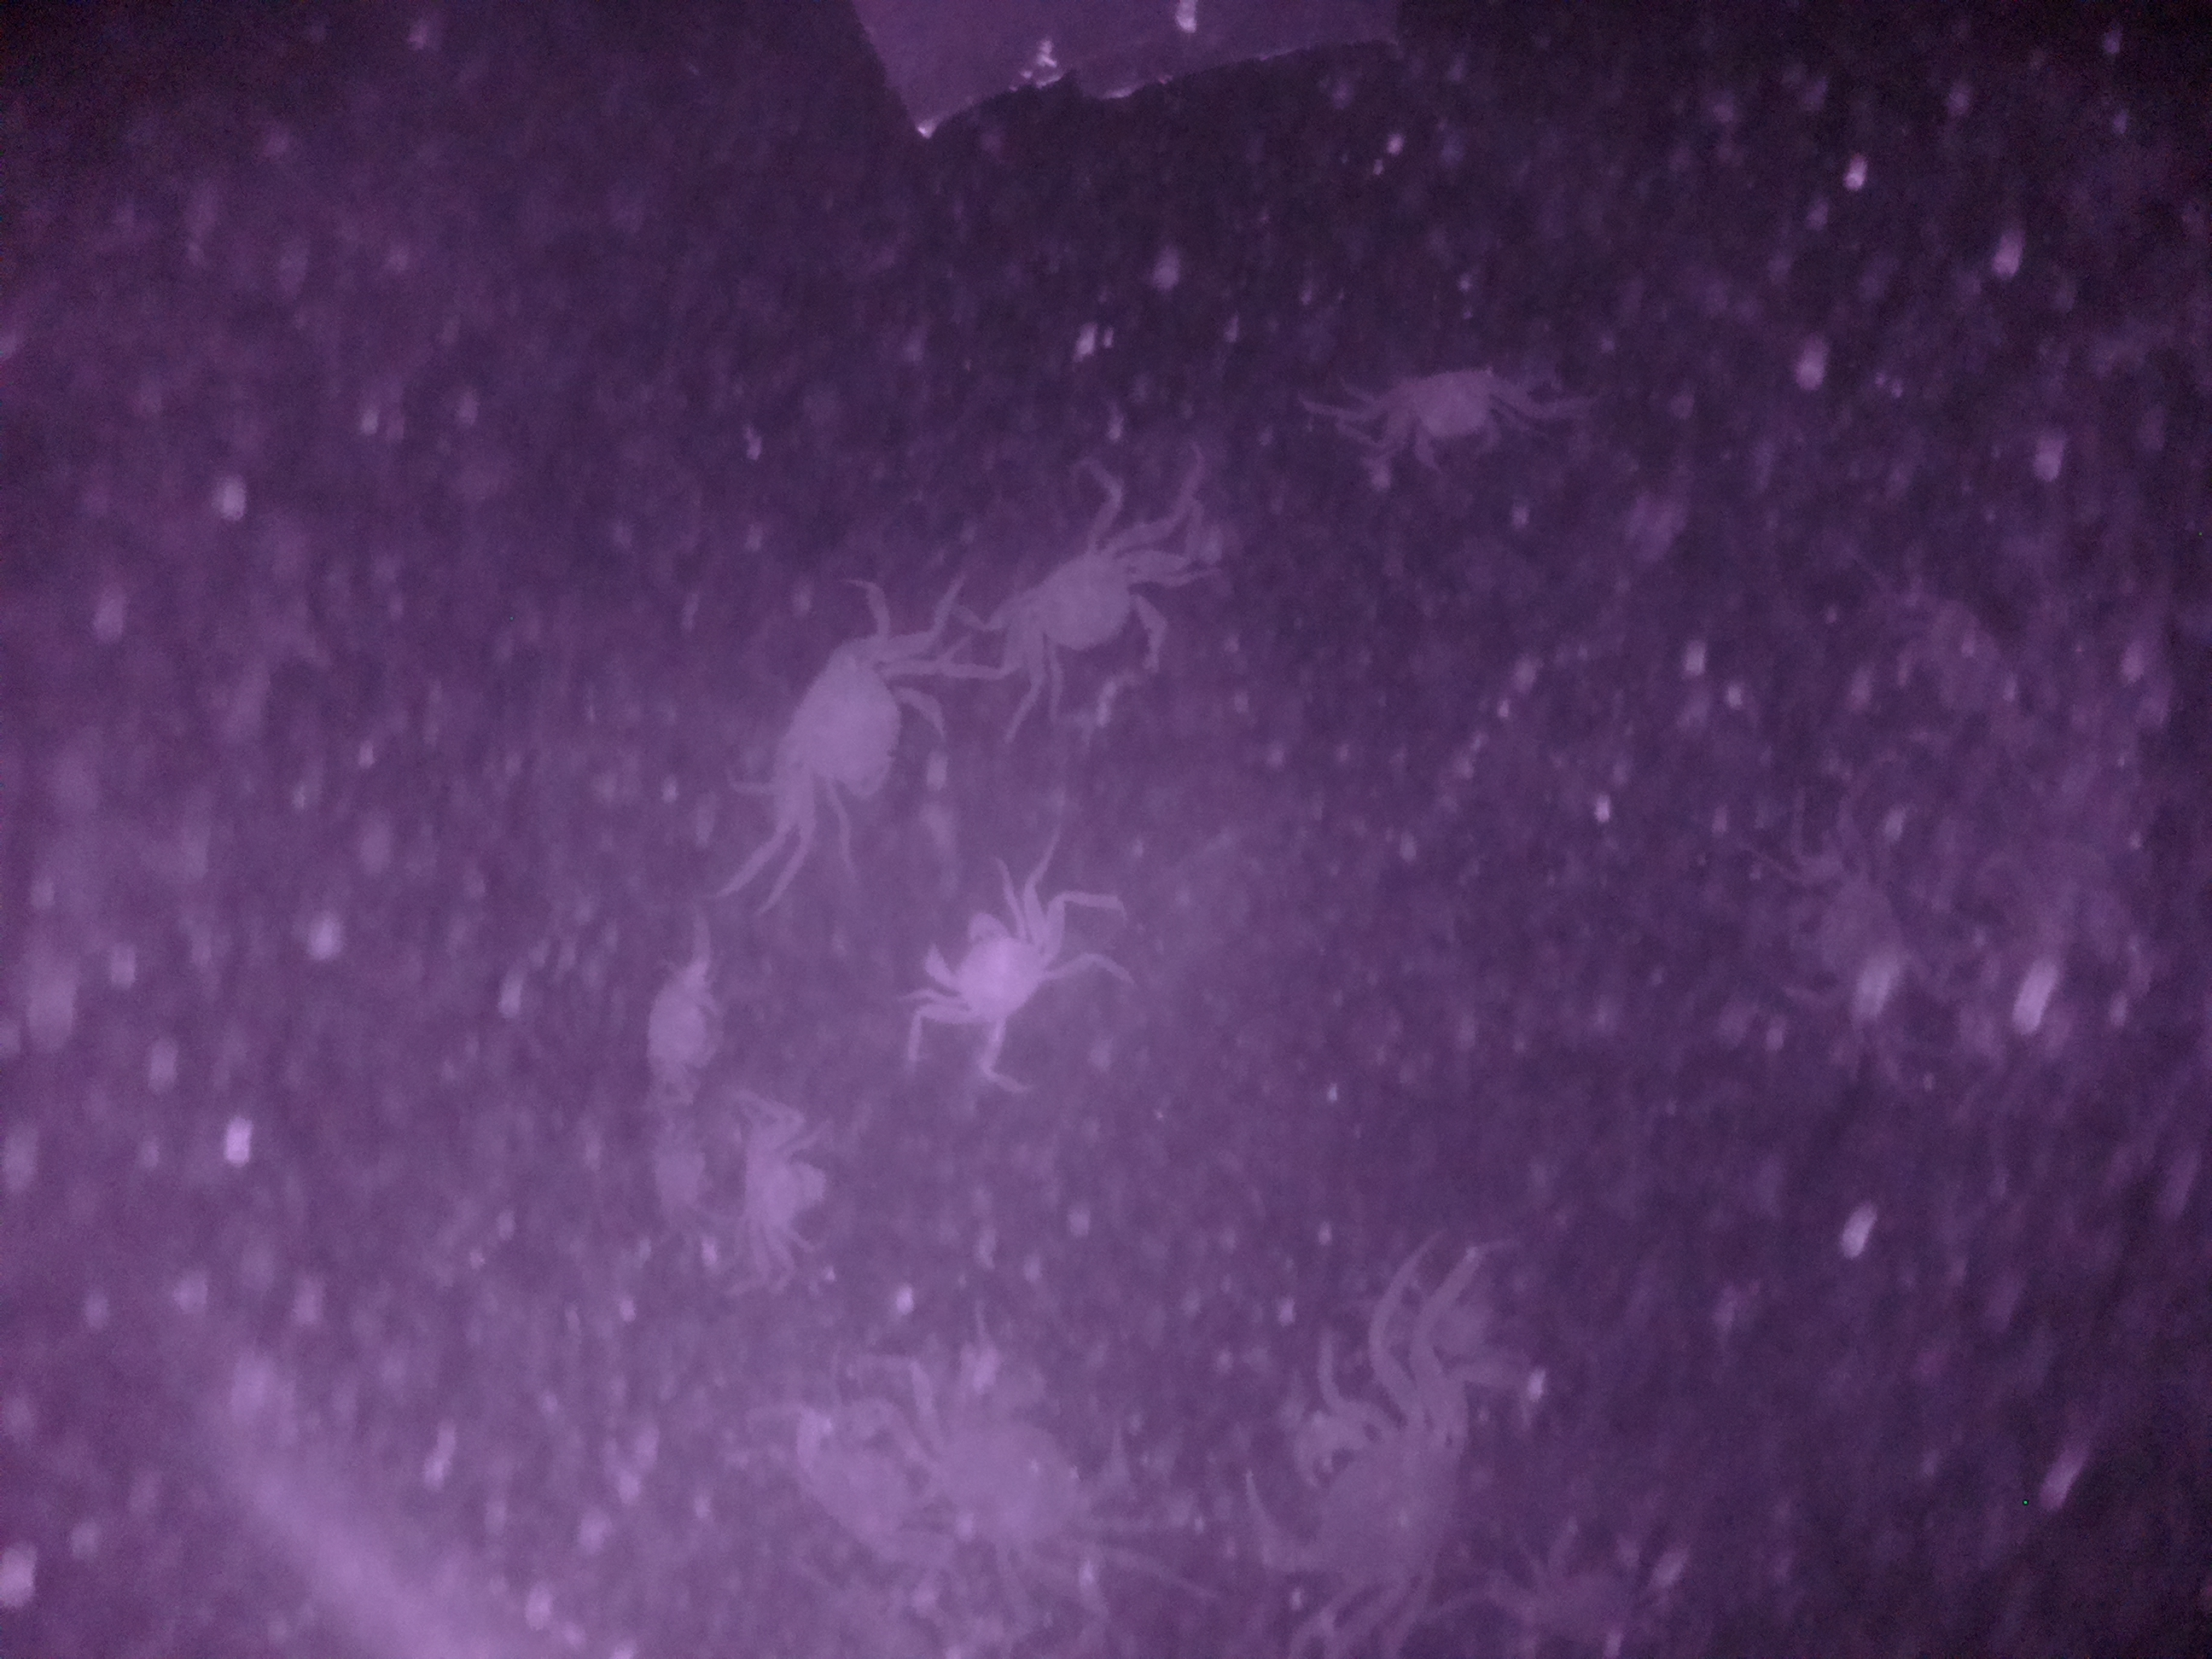Crab: (749, 599, 944, 847), (979, 521, 1183, 711), (907, 871, 1069, 1061), (723, 1103, 836, 1286), (1369, 357, 1514, 472)
